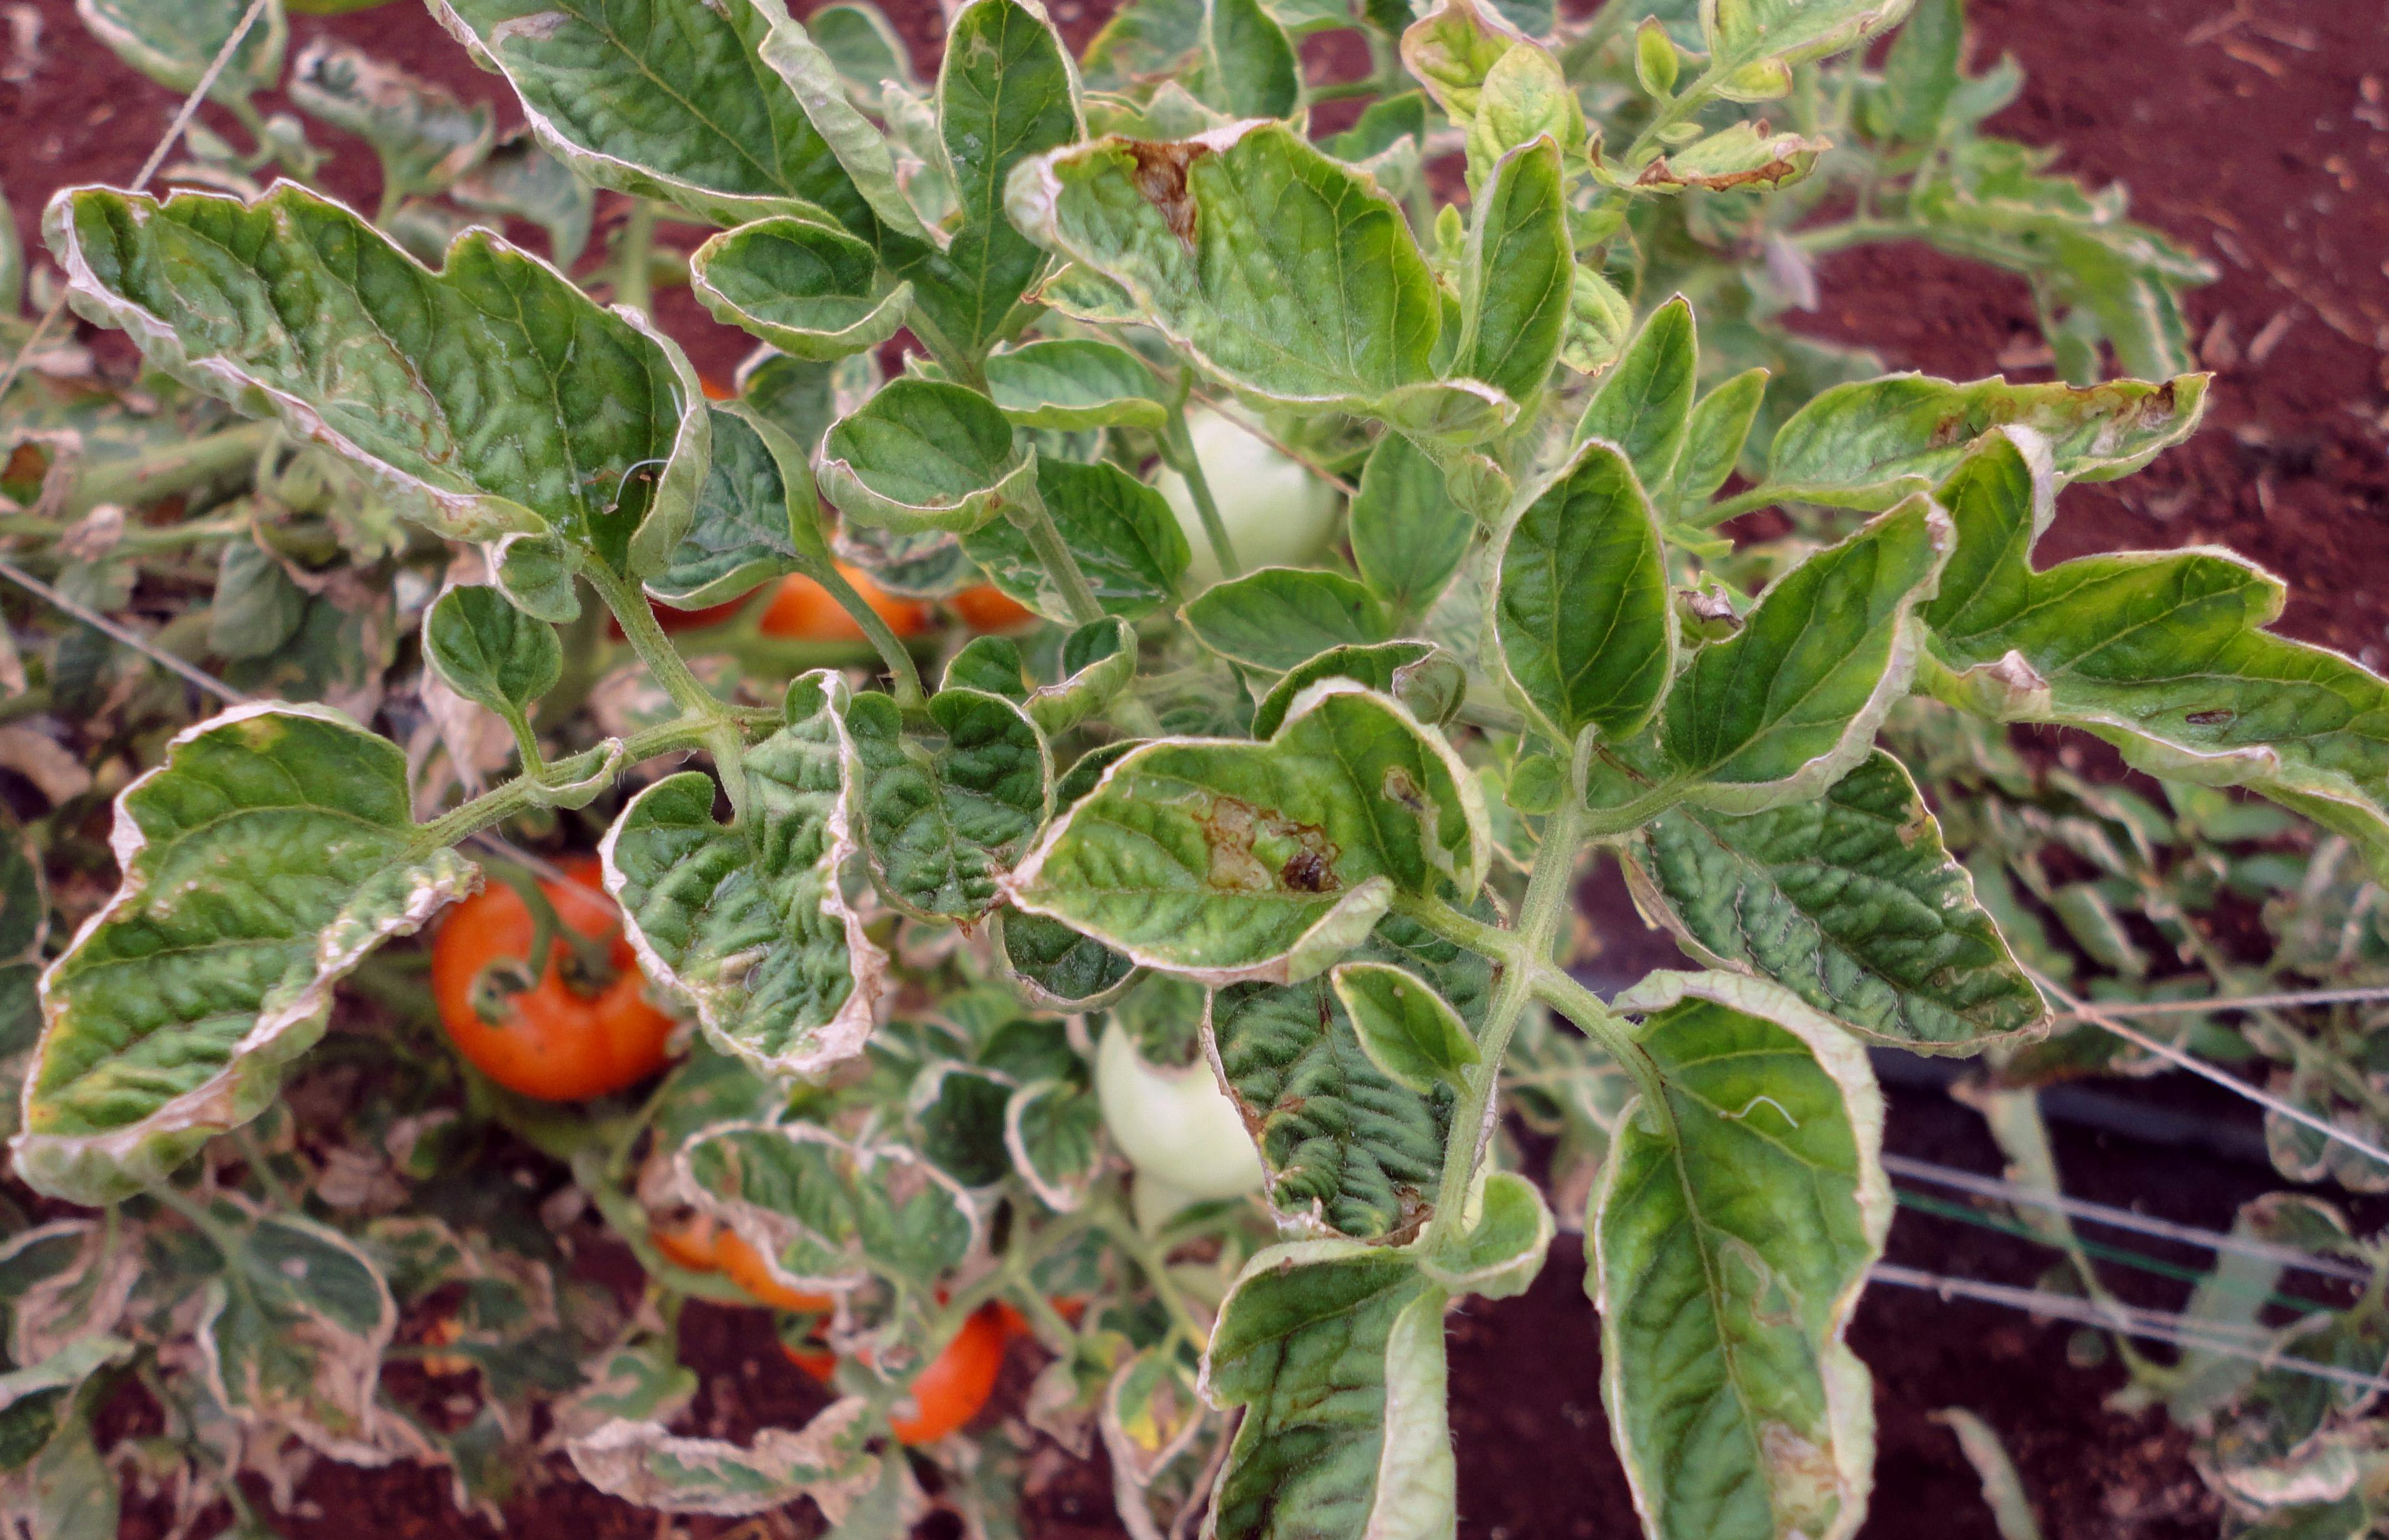Tomato leaf yellow virus: (338, 0, 1095, 414), (1905, 383, 2389, 962), (0, 167, 750, 538), (986, 78, 1621, 501), (0, 684, 465, 1249), (1576, 948, 1924, 1540), (986, 599, 1497, 978), (569, 663, 898, 1222), (1087, 1188, 1583, 1540), (1668, 473, 2042, 795), (1470, 421, 1764, 748)
